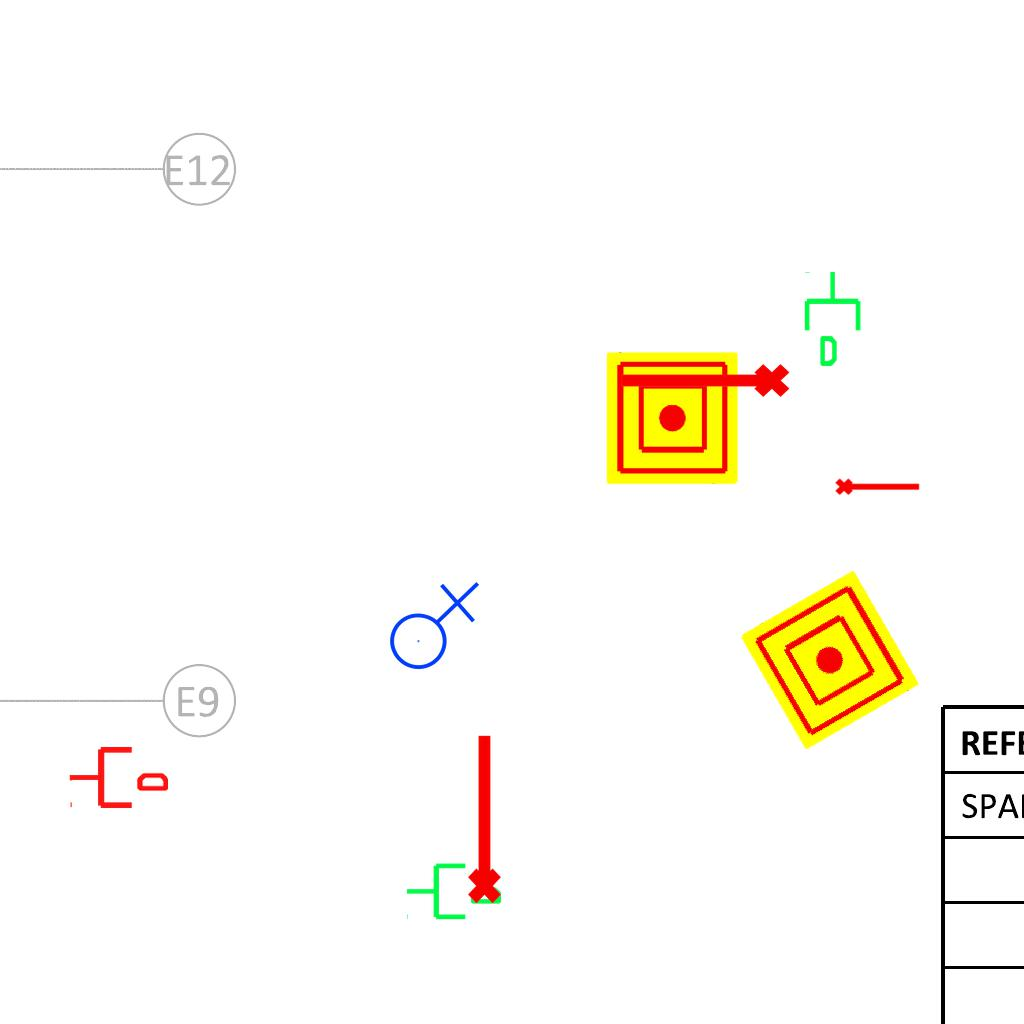ASR_Ansaugoeffnung: (459, 730, 505, 906), (616, 360, 792, 406), (834, 474, 922, 497)
Datenanschluss_einfach: (68, 743, 168, 812), (404, 855, 504, 924), (800, 269, 869, 369)
Elektroanschluss_allgemein_230V_Geraeteanschlussdose_230V: (381, 577, 480, 671)
NAM-Nichtautomatischer_Melder: (739, 569, 921, 751), (606, 352, 738, 484)
